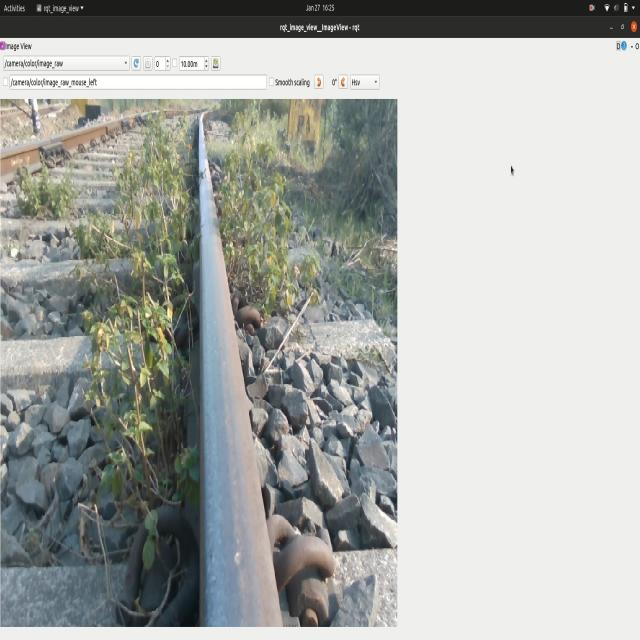overrailed: (259, 504, 371, 627)
